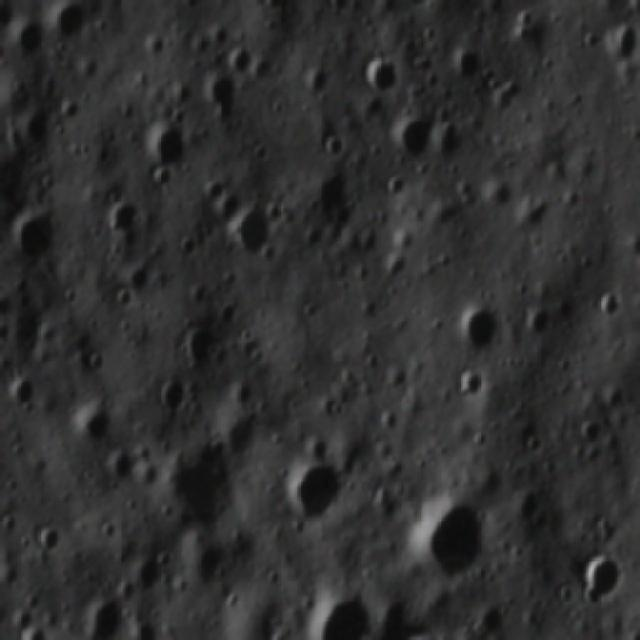crater: (147, 440, 247, 538), (405, 487, 492, 585), (274, 454, 355, 535), (574, 545, 637, 618), (8, 196, 70, 269), (220, 571, 283, 640), (220, 199, 278, 267), (304, 591, 382, 640), (140, 114, 197, 175), (296, 167, 350, 230), (75, 591, 137, 640), (452, 298, 505, 354), (102, 189, 156, 243), (387, 110, 442, 162), (198, 65, 244, 127), (354, 46, 401, 103), (71, 391, 118, 444), (595, 14, 640, 68), (171, 323, 217, 375), (486, 68, 526, 127), (6, 11, 48, 67), (44, 0, 90, 49), (148, 372, 198, 416), (443, 40, 482, 94), (0, 367, 43, 413), (22, 103, 58, 155), (448, 366, 492, 408), (514, 298, 551, 345), (29, 519, 72, 558), (592, 286, 626, 326), (388, 626, 468, 640), (124, 611, 161, 640), (319, 127, 347, 165), (307, 430, 331, 470), (96, 511, 118, 551), (84, 346, 110, 379), (14, 617, 51, 640), (378, 0, 428, 6), (624, 638, 640, 639)
